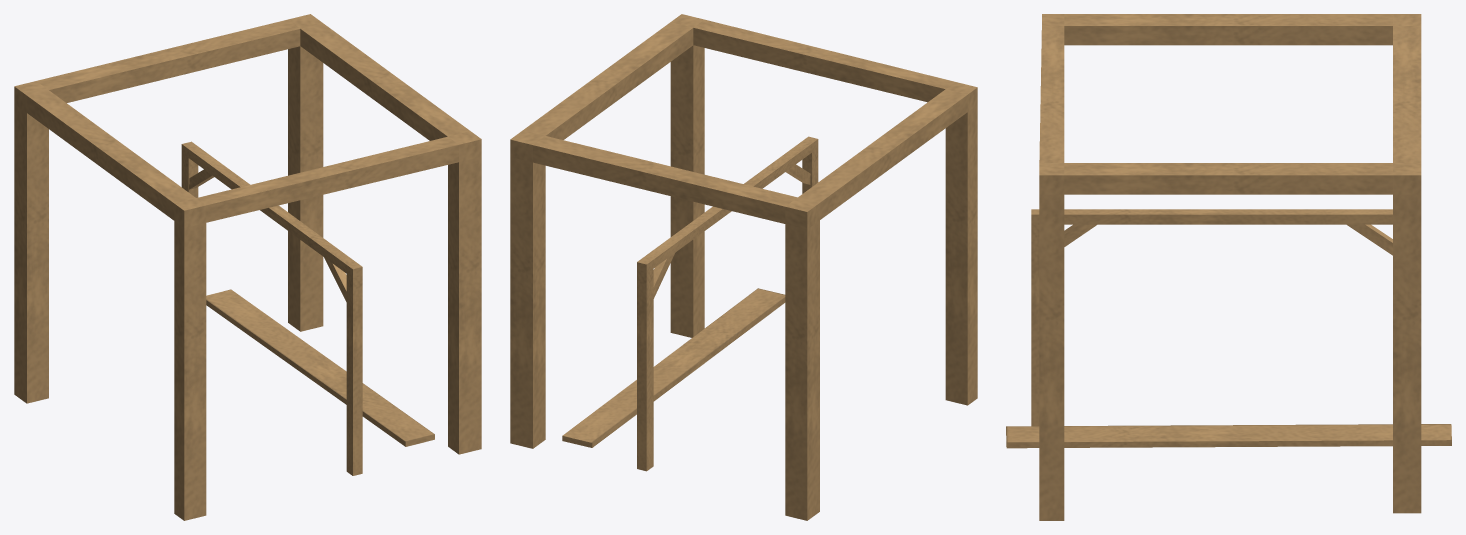
The model's file is madeira_mod.fbx.
The picture shows the model from 3 angles, left to right: view 1: azimuth 30°, elevation 25°; view 2: azimuth 150°, elevation 25°; view 3: azimuth 270°, elevation 25°; orthographic projection. The views are drawn at different scales.
Visible parts, largest first — view 1: Cube, Cube.002, Cube.001; view 2: Cube, Cube.002, Cube.001; view 3: Cube, Cube.001, Cube.002.
Boxes of the visible parts, box(x1,y1,x2,y2) form: Cube: box(14, 14, 481, 520); Cube.002: box(181, 141, 362, 475); Cube.001: box(206, 289, 434, 446); Cube: box(510, 14, 977, 520); Cube.002: box(637, 136, 818, 471); Cube.001: box(562, 288, 785, 447); Cube: box(1039, 14, 1421, 520); Cube.001: box(1006, 424, 1451, 448); Cube.002: box(1031, 209, 1392, 426).
Size of the model in its own units: 300 by 300 by 350.
